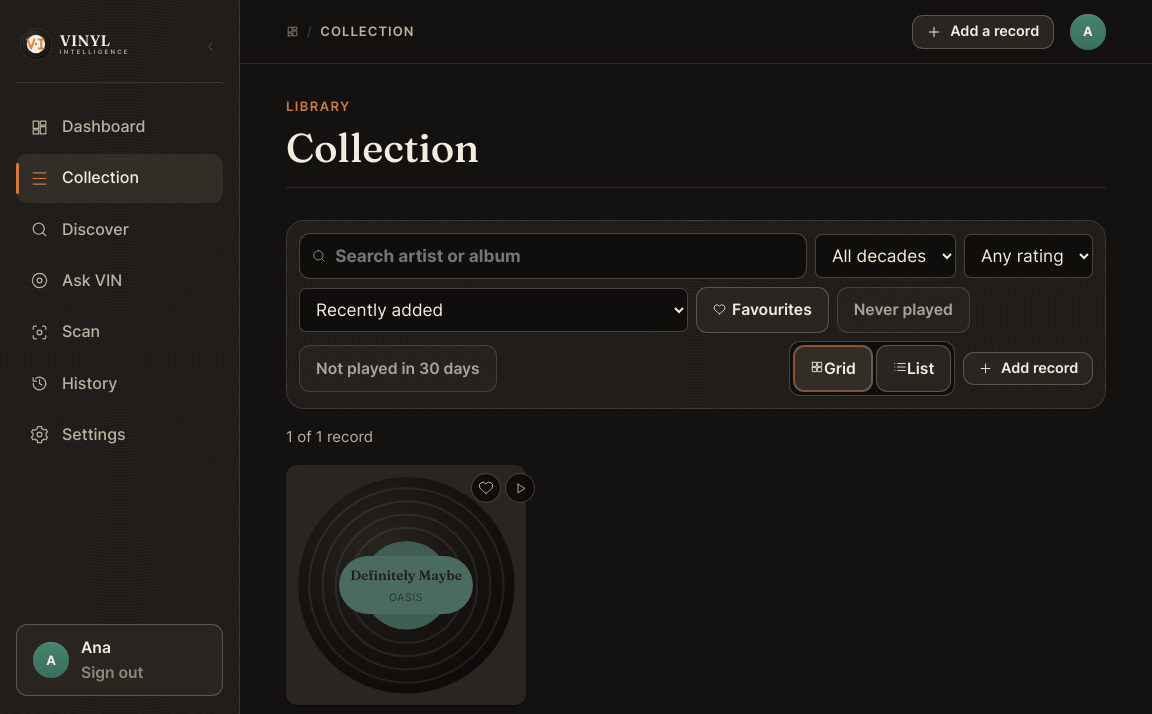
Test: Independent collection / listening error handling (Finding 2) › F. a listening-events error keeps the owned collection available
This screenshot has width=1152, height=714.
Check: the text "Oasis" is shown, box [389, 591, 423, 604]
Click the link "History".
click(73, 383)  # box [30, 373, 117, 393]
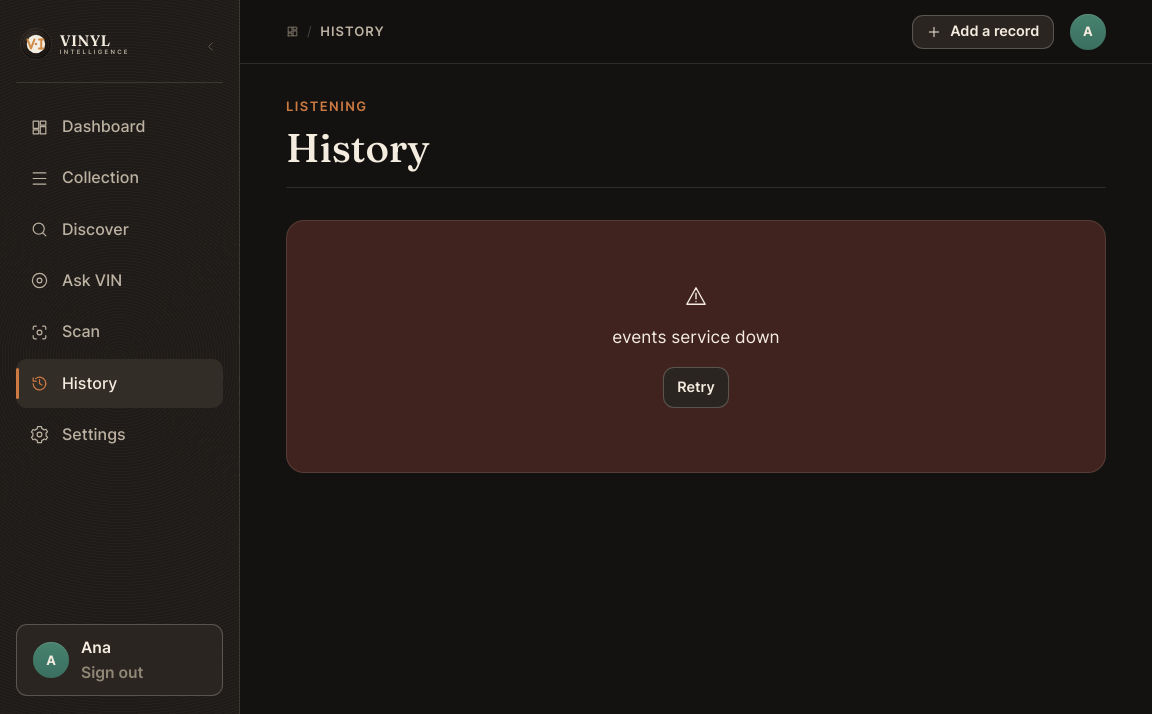
Check: the text "events service down" is shown, box [612, 323, 780, 350]
Check: the button "Retry" is shown, box [663, 366, 729, 408]
